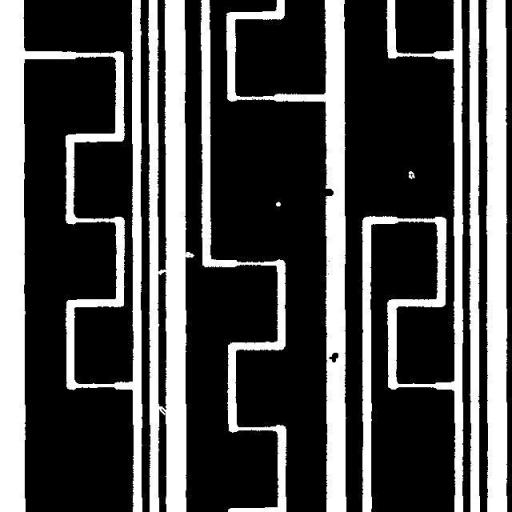copper: (320, 344, 346, 370)
mousebite: (174, 243, 202, 265)
open: (150, 398, 176, 422), (150, 262, 175, 282)
pin-hole: (401, 164, 422, 186), (268, 194, 288, 214)
spur: (314, 180, 340, 203)
